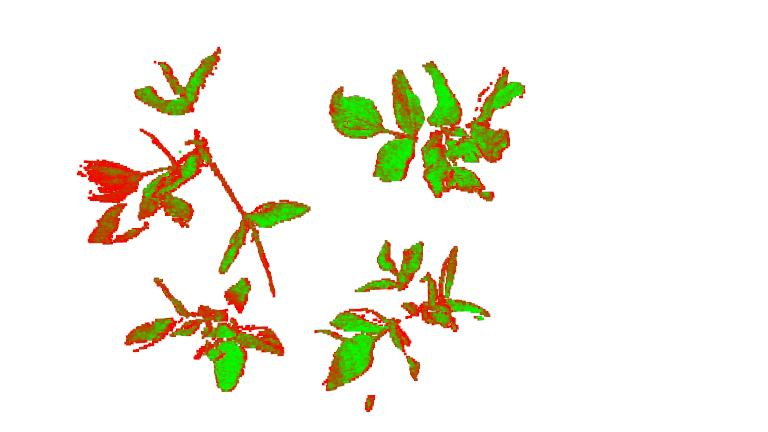mungbean: (78, 46, 311, 273), (328, 62, 528, 202), (313, 239, 491, 391), (125, 278, 287, 393)
